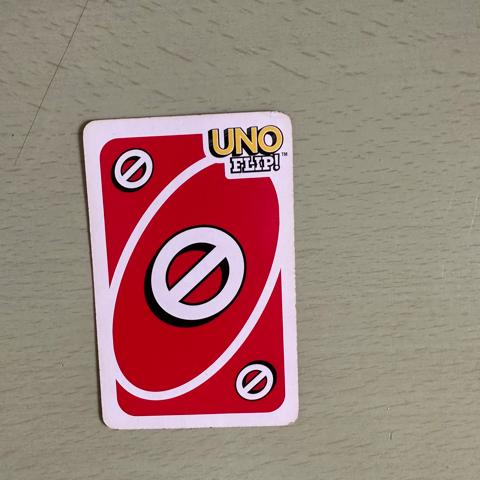lredskip-20: (95, 134, 168, 206)
